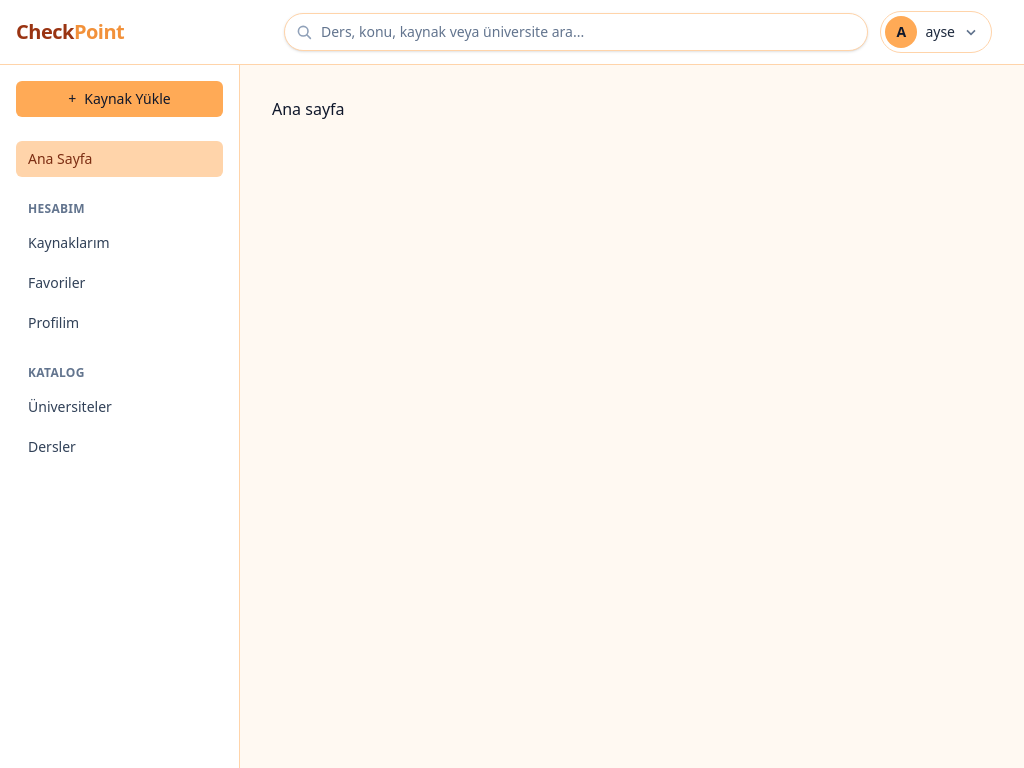
Test: AppLayout › searches from the header
Type "veri yapıları" into the search field with placeholder "Ders, konu, kaynak veya üniversite ara..." at [576, 32], box [284,13,868,51]
Then press Enter
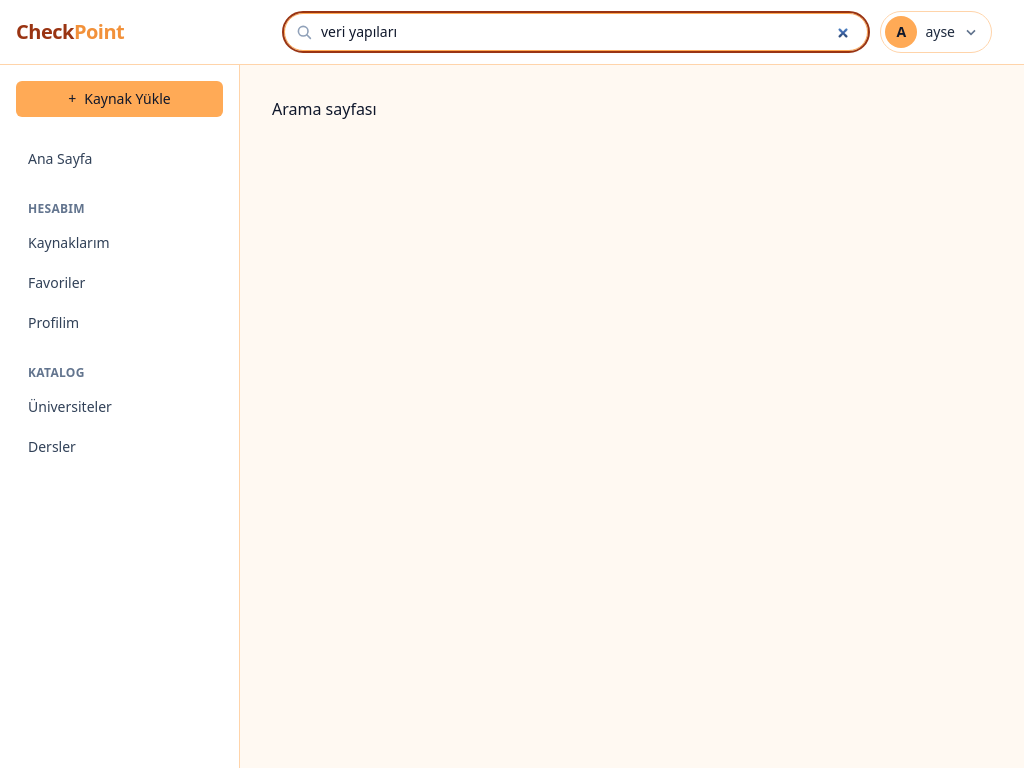
Expected: the heading "Arama sayfası" is shown, [272,98,377,120]
